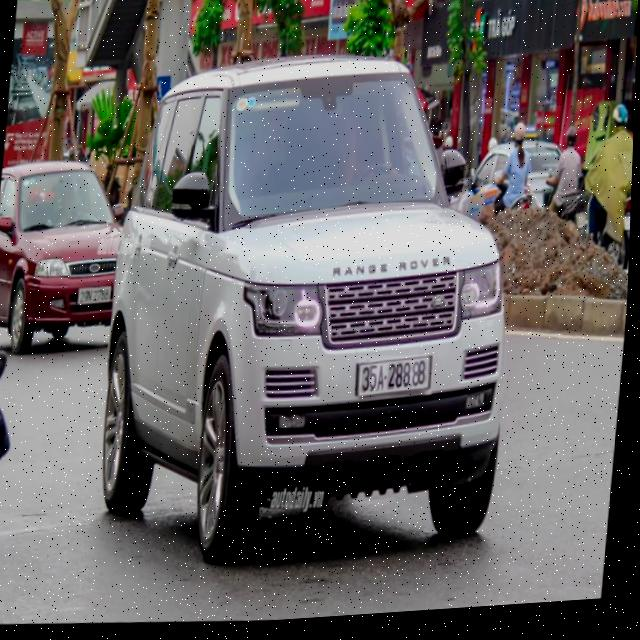car: (88, 35, 523, 586), (0, 150, 133, 359)
plate: (348, 348, 437, 403), (73, 278, 114, 309)
